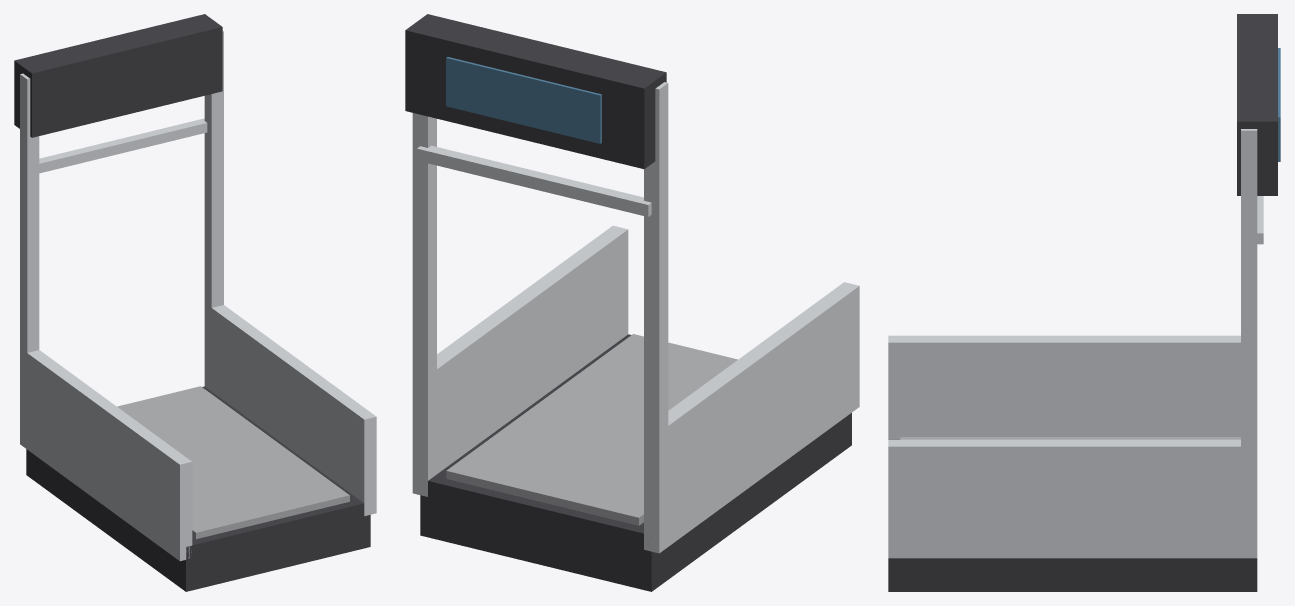
Rendered from treadmill.glb.
The picture shows the model from 3 angles, left to right: view 1: azimuth 30°, elevation 25°; view 2: azimuth 150°, elevation 25°; view 3: azimuth 270°, elevation 25°; orthographic projection. The views are drawn at different scales.
Parts seen in each view (by area): view 1: treadmill; view 2: treadmill; view 3: treadmill.
Boxes of the visible parts, x1,y1,x2,y2 form: treadmill: (14, 14, 376, 591); treadmill: (405, 14, 859, 591); treadmill: (888, 14, 1280, 591).
Bounding box in the file's own units: 0.64 × 1.27 × 0.957.
